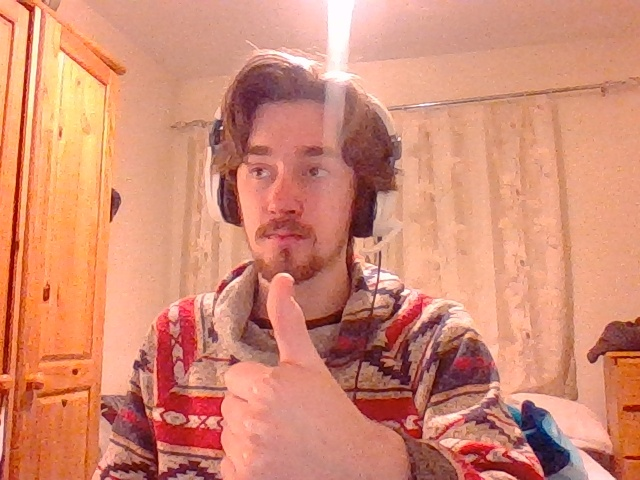good: (221, 272, 404, 480)
